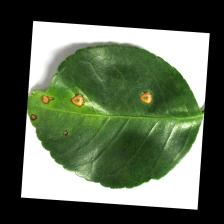canker: (41, 69, 157, 134)
